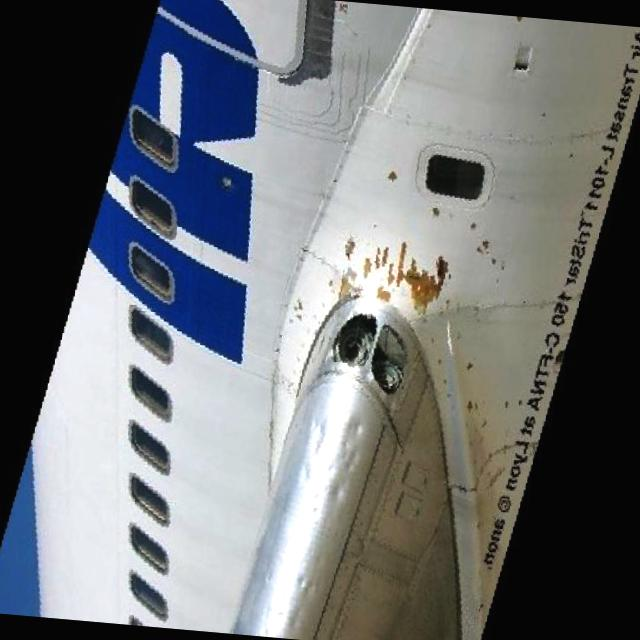dent: (243, 408, 362, 640)
